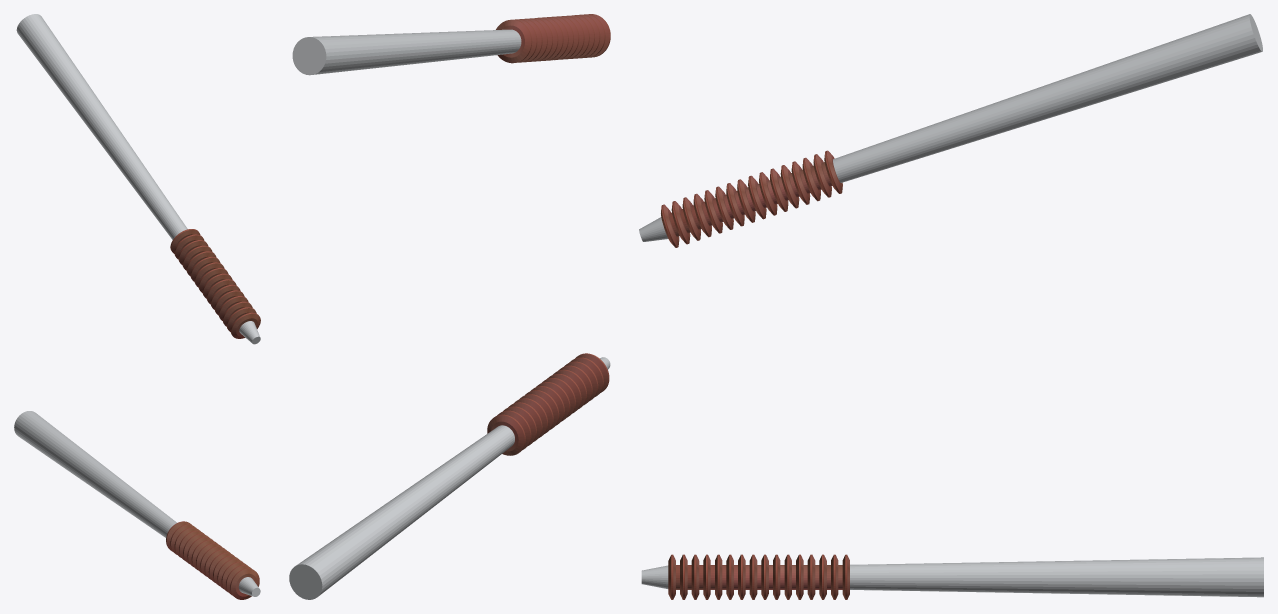
Rendered from catenary_end_20.obj.
3 renders of one model, left to right at view 1: azimuth 30°, elevation 25°; view 2: azimuth 150°, elevation 25°; view 3: azimuth 270°, elevation 25°, orthographic. The views are drawn at different scales.
Parts seen in each view (by area): view 1: insulators.001, insulators.002; view 2: insulators.002, insulators.001; view 3: insulators.001, insulators.002.
Boxes of the visible parts, <box> form: insulators.001: <box>16,14,260,344</box>; insulators.002: <box>14,411,260,599</box>; insulators.002: <box>289,353,610,599</box>; insulators.001: <box>292,14,610,75</box>; insulators.001: <box>639,14,1262,247</box>; insulators.002: <box>641,554,1263,599</box>.
Size of the model in its own units: 0.1451 by 2.06 by 2.01.
Materials: 8 (8 with a texture image).
